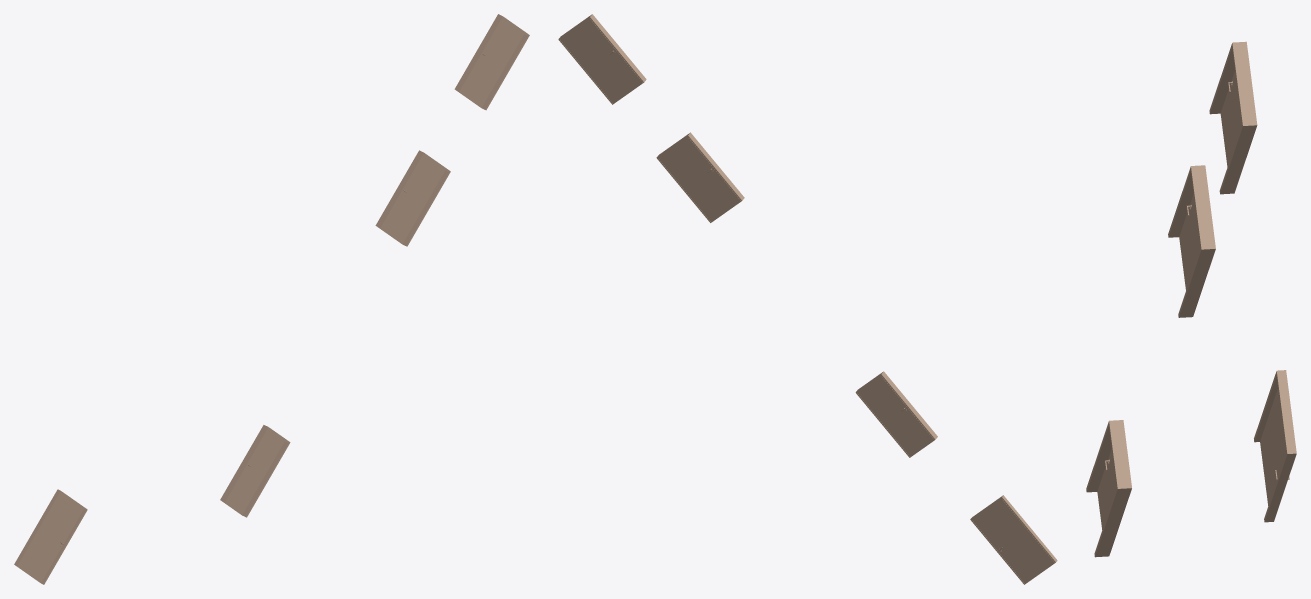
3 renders of one model, left to right at view 1: azimuth 30°, elevation 25°; view 2: azimuth 150°, elevation 25°; view 3: azimuth 270°, elevation 25°, orthographic. The views are drawn at different scales.
Visible parts, largest first — view 1: mesh; view 2: mesh; view 3: mesh.
Boxes of the visible parts, <box> form: mesh: <box>14,14,529,584</box>; mesh: <box>558,14,1057,584</box>; mesh: <box>1086,41,1296,557</box>.
Bounding box in the file's own units: 13.8 × 12 × 2.52.
